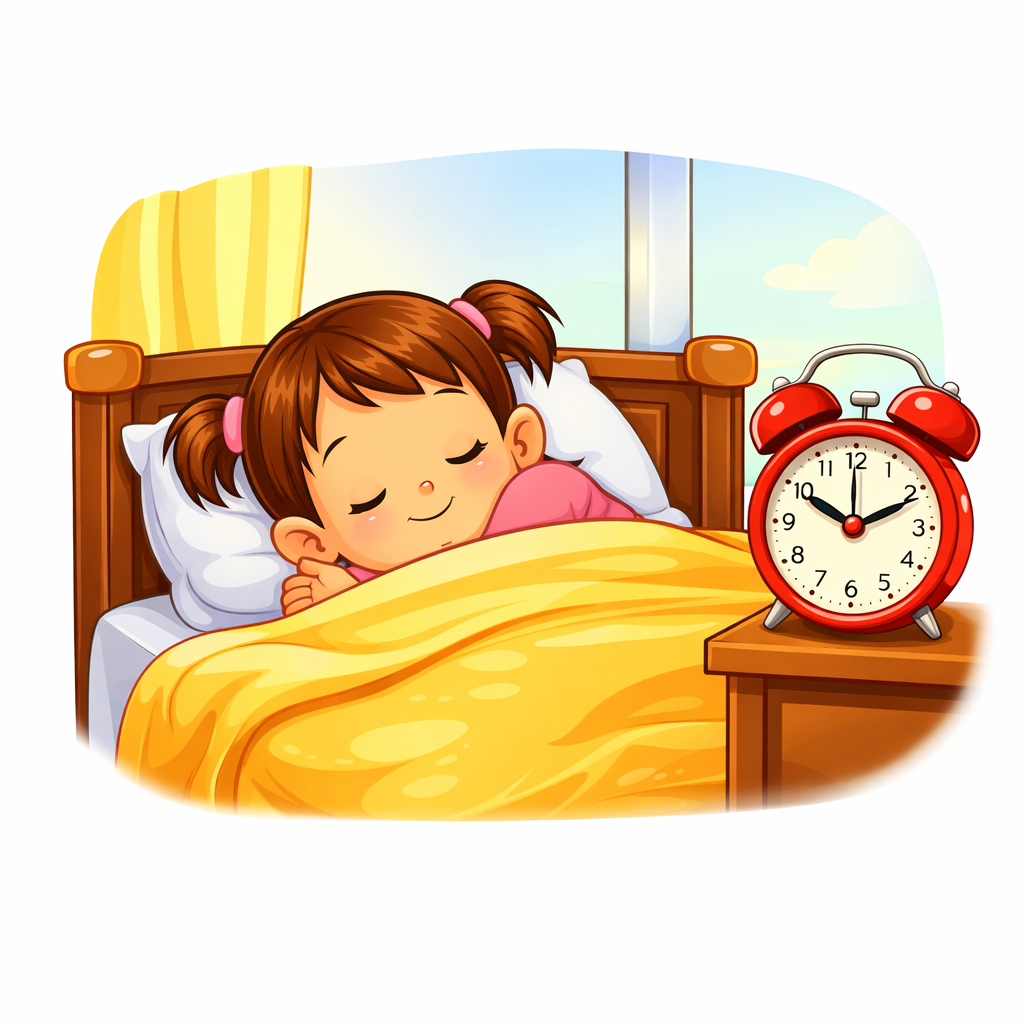Alarm: (706, 306, 1021, 718)
